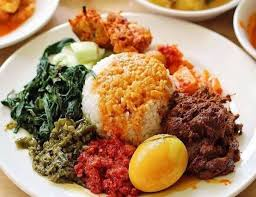Nasi padang: (10, 14, 245, 194)
